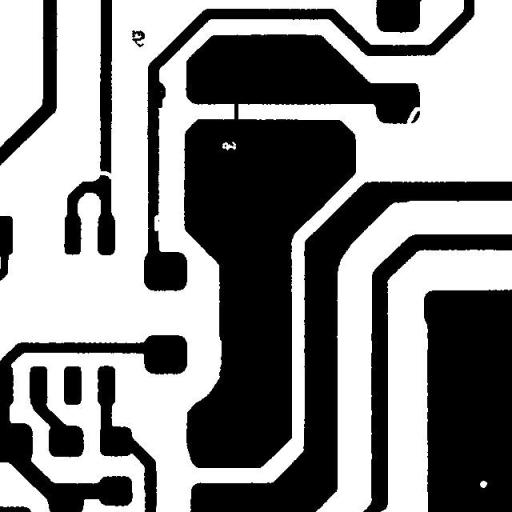copper: (124, 22, 152, 54)
mousebite: (146, 208, 168, 238)
open: (399, 99, 430, 133), (88, 164, 122, 186)
pin-hole: (214, 134, 244, 158)
short: (226, 91, 246, 128)
spur: (148, 74, 173, 115)
